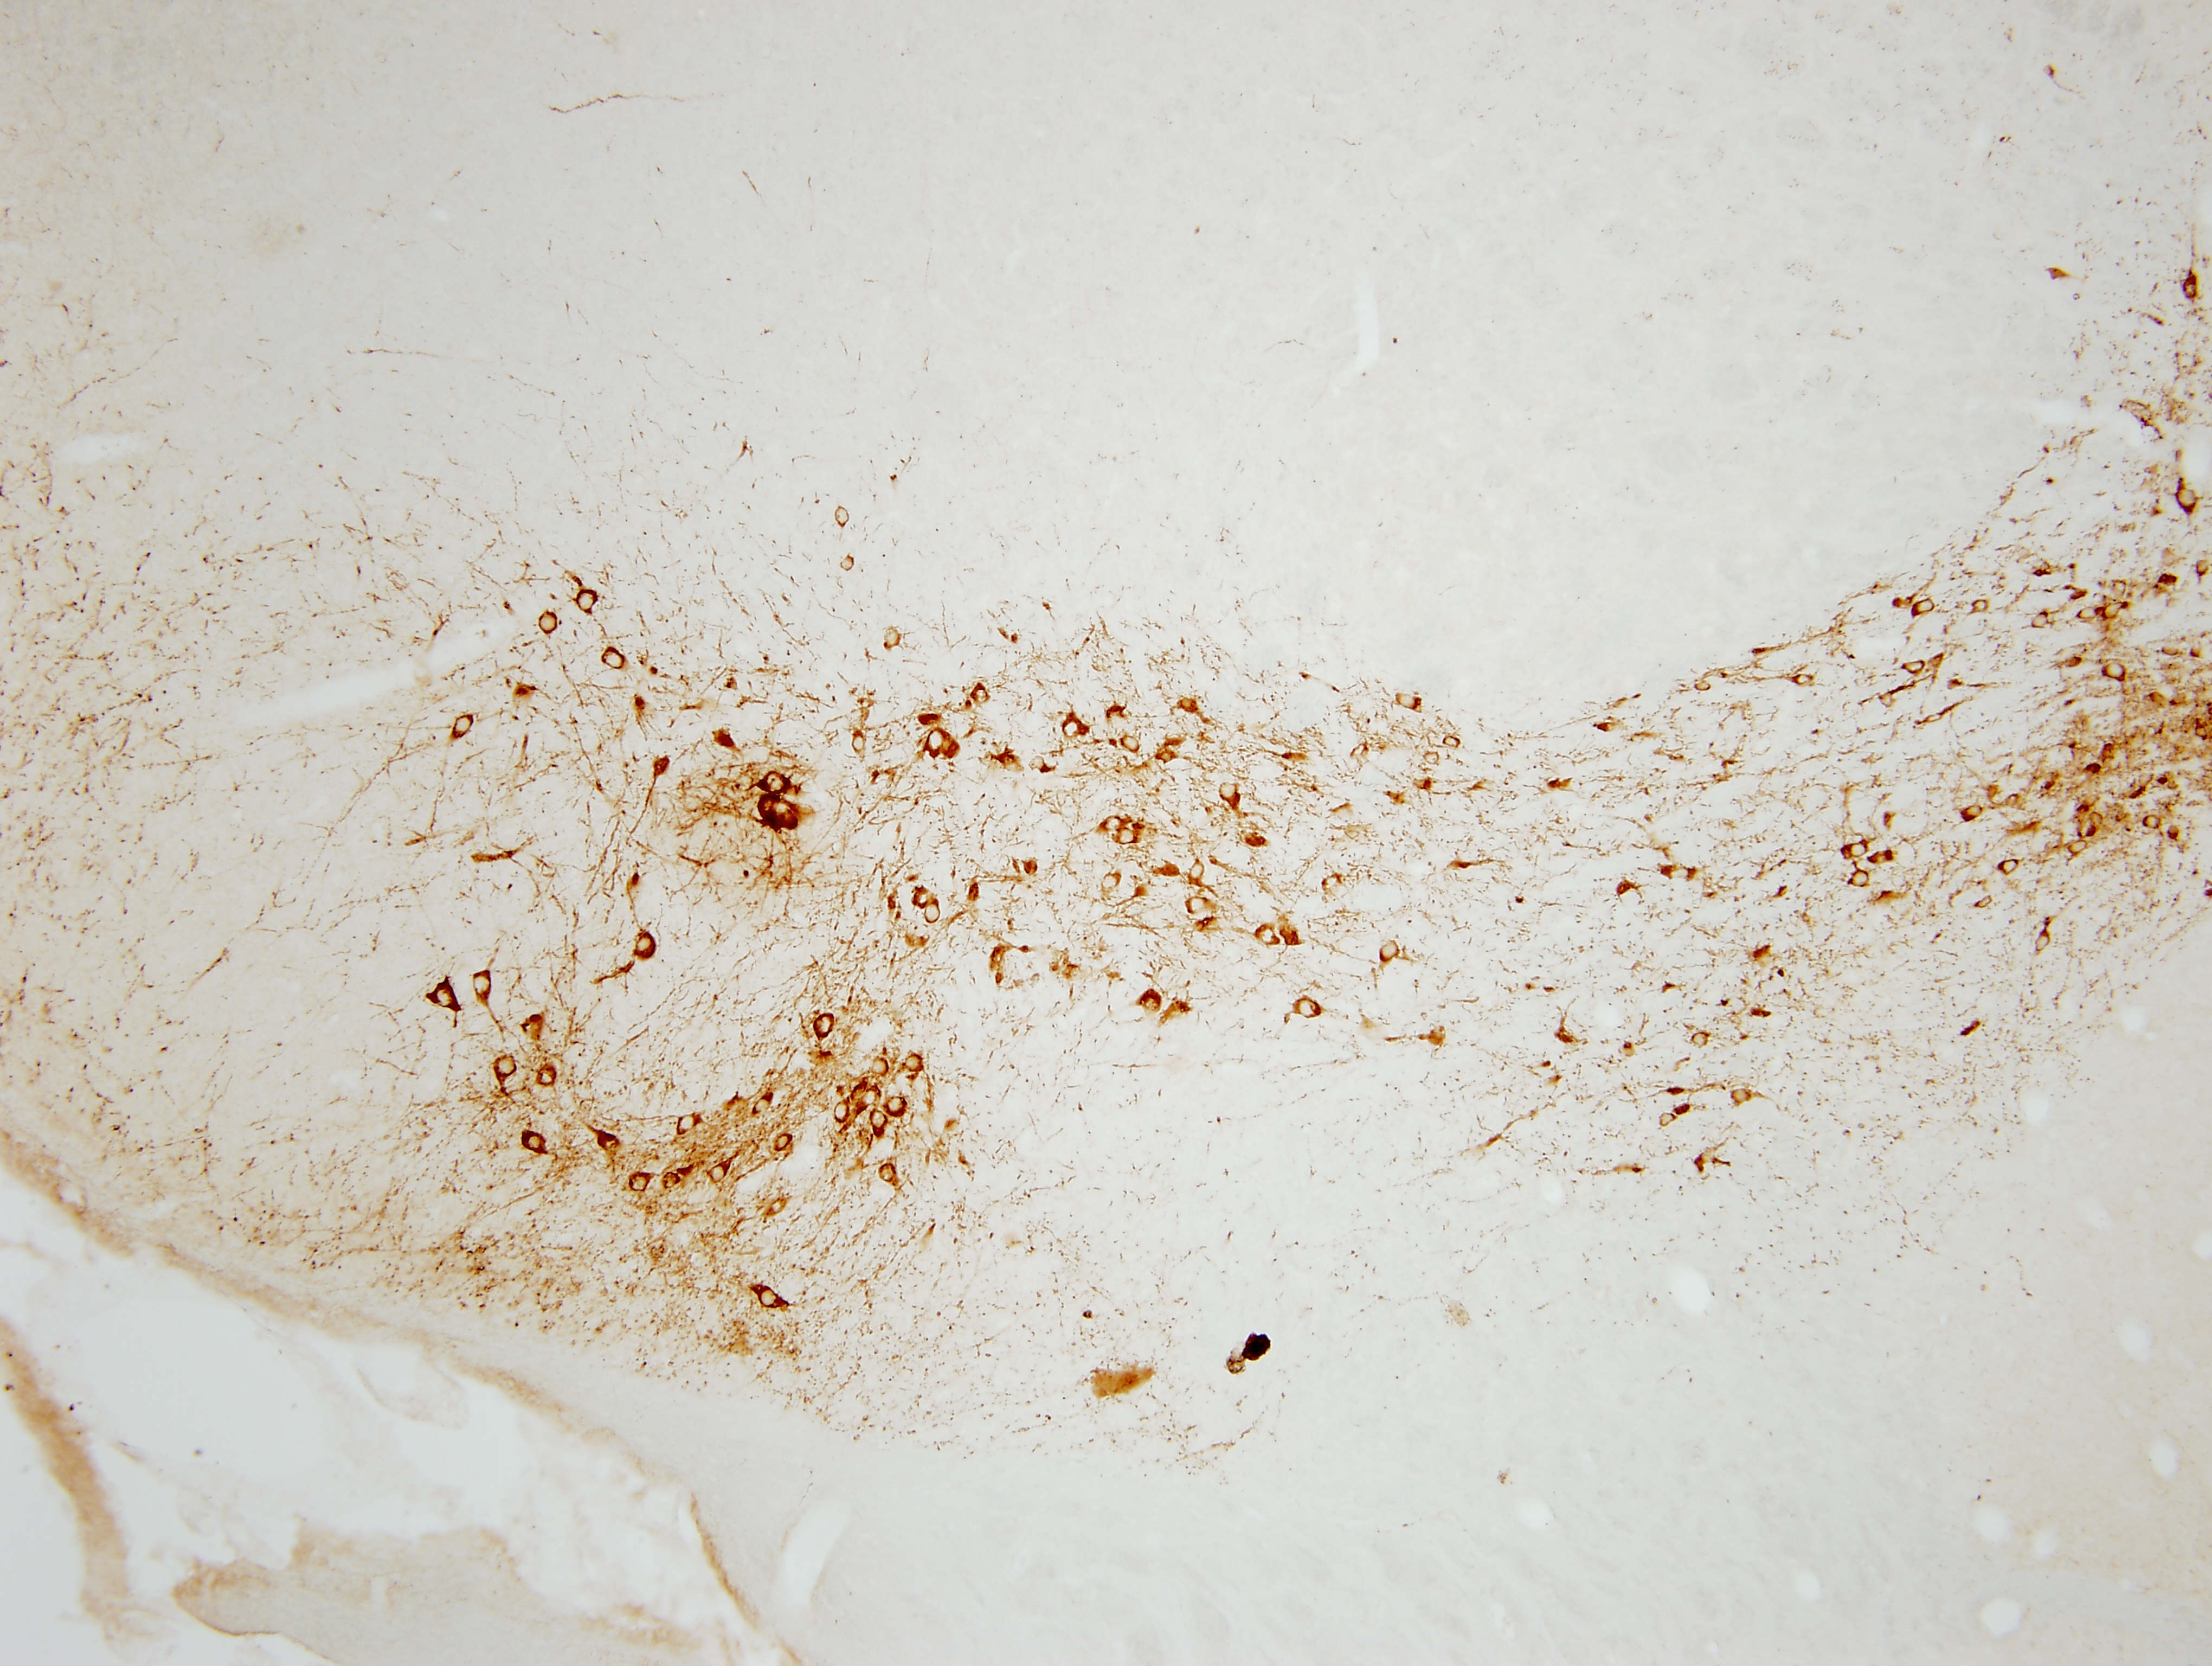neuron: (602, 644, 628, 670), (630, 1169, 656, 1195), (635, 933, 661, 959), (677, 796, 703, 823), (677, 1111, 703, 1138), (705, 1160, 731, 1186), (757, 1288, 783, 1314), (764, 772, 790, 798), (811, 1013, 838, 1039), (831, 1099, 857, 1125), (846, 731, 873, 758), (867, 1108, 894, 1134), (883, 1094, 909, 1120), (920, 898, 946, 924), (1061, 716, 1088, 742), (1186, 894, 1212, 921), (1296, 998, 1322, 1024), (1378, 938, 1404, 964), (1395, 688, 1422, 714), (1845, 838, 1871, 865), (1847, 866, 1873, 893), (1901, 653, 1927, 679), (1911, 593, 1937, 620), (2028, 607, 2055, 633), (2032, 929, 2058, 956), (2174, 487, 2200, 513), (432, 985, 458, 1011), (449, 714, 476, 740), (470, 973, 497, 999), (523, 1130, 549, 1157), (537, 609, 563, 635), (577, 588, 602, 614), (661, 1167, 687, 1192), (927, 728, 951, 754), (1219, 782, 1245, 807), (2102, 598, 2128, 623), (2104, 658, 2130, 683), (493, 1054, 519, 1078), (881, 626, 906, 651), (2069, 838, 2090, 859), (752, 1097, 773, 1116), (773, 1134, 794, 1153), (832, 506, 852, 527), (1121, 735, 1142, 754), (1158, 746, 1177, 766), (1658, 1111, 1679, 1130), (1691, 1029, 1710, 1050), (1693, 676, 1712, 696), (1923, 709, 1944, 728), (1976, 893, 1995, 914), (768, 1197, 787, 1216), (839, 556, 859, 576), (860, 1089, 880, 1108), (871, 1059, 890, 1078), (878, 1164, 897, 1183), (906, 1054, 925, 1073), (972, 686, 991, 705), (1103, 871, 1123, 891), (1105, 814, 1124, 833), (1117, 828, 1137, 847), (1180, 695, 1200, 714), (1187, 863, 1207, 882), (1322, 873, 1341, 893), (1423, 749, 1443, 768), (1444, 733, 1464, 753), (1733, 1087, 1752, 1106), (1796, 670, 1815, 690), (1878, 690, 1897, 709), (1964, 803, 1983, 823), (1971, 597, 1990, 616), (2000, 858, 2020, 877), (2079, 604, 2098, 623), (2142, 814, 2161, 833), (2193, 558, 2212, 578), (539, 1067, 558, 1087)
